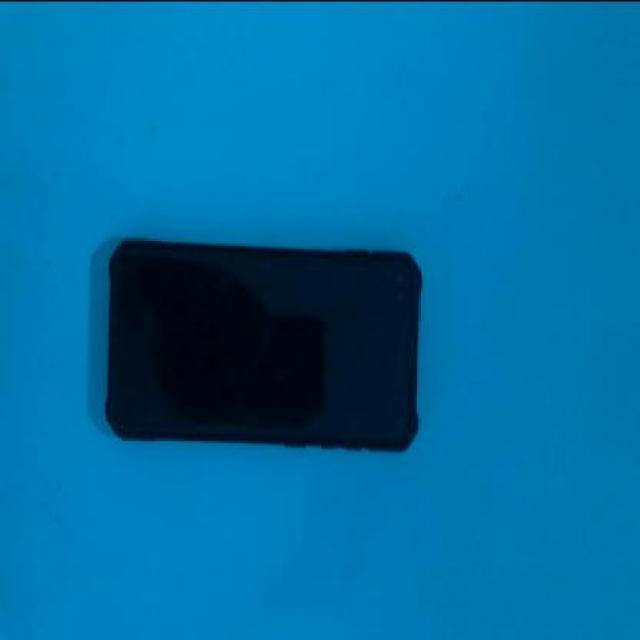phone: (108, 232, 419, 450)
